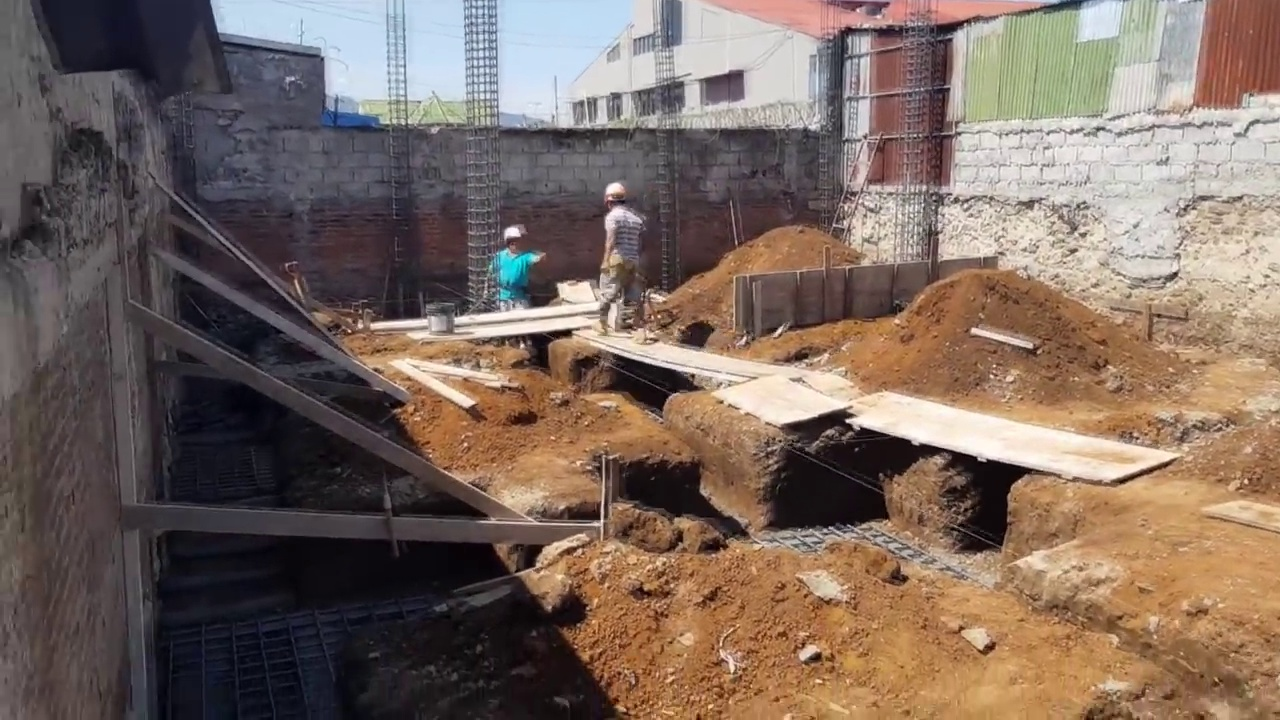helmet: (603, 182, 627, 201), (503, 226, 522, 241)
helmet-on: (501, 226, 526, 256), (603, 182, 627, 211)
person: (593, 178, 645, 345), (485, 225, 546, 311)
